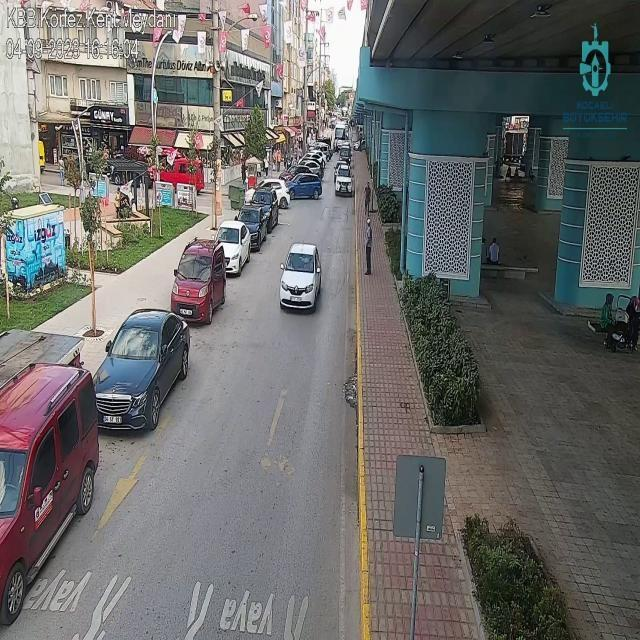Car: (89, 307, 188, 435), (278, 242, 321, 312), (215, 222, 251, 274), (234, 206, 271, 251), (246, 190, 280, 233), (252, 178, 290, 210), (284, 173, 322, 200), (282, 164, 319, 184), (334, 164, 353, 196), (300, 160, 322, 177), (304, 152, 326, 167), (334, 161, 350, 178), (339, 146, 353, 163), (300, 157, 323, 166)
Van: (0, 359, 102, 624), (169, 238, 231, 324), (154, 155, 203, 194)
